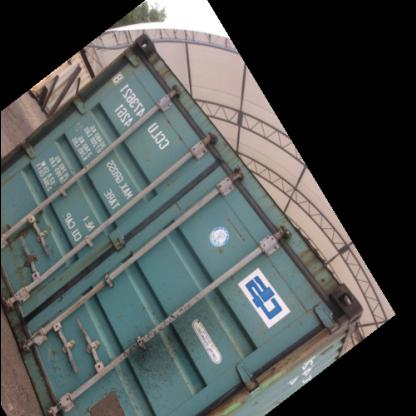Damage: (132, 300, 220, 386), (31, 319, 70, 407), (6, 212, 44, 286)
